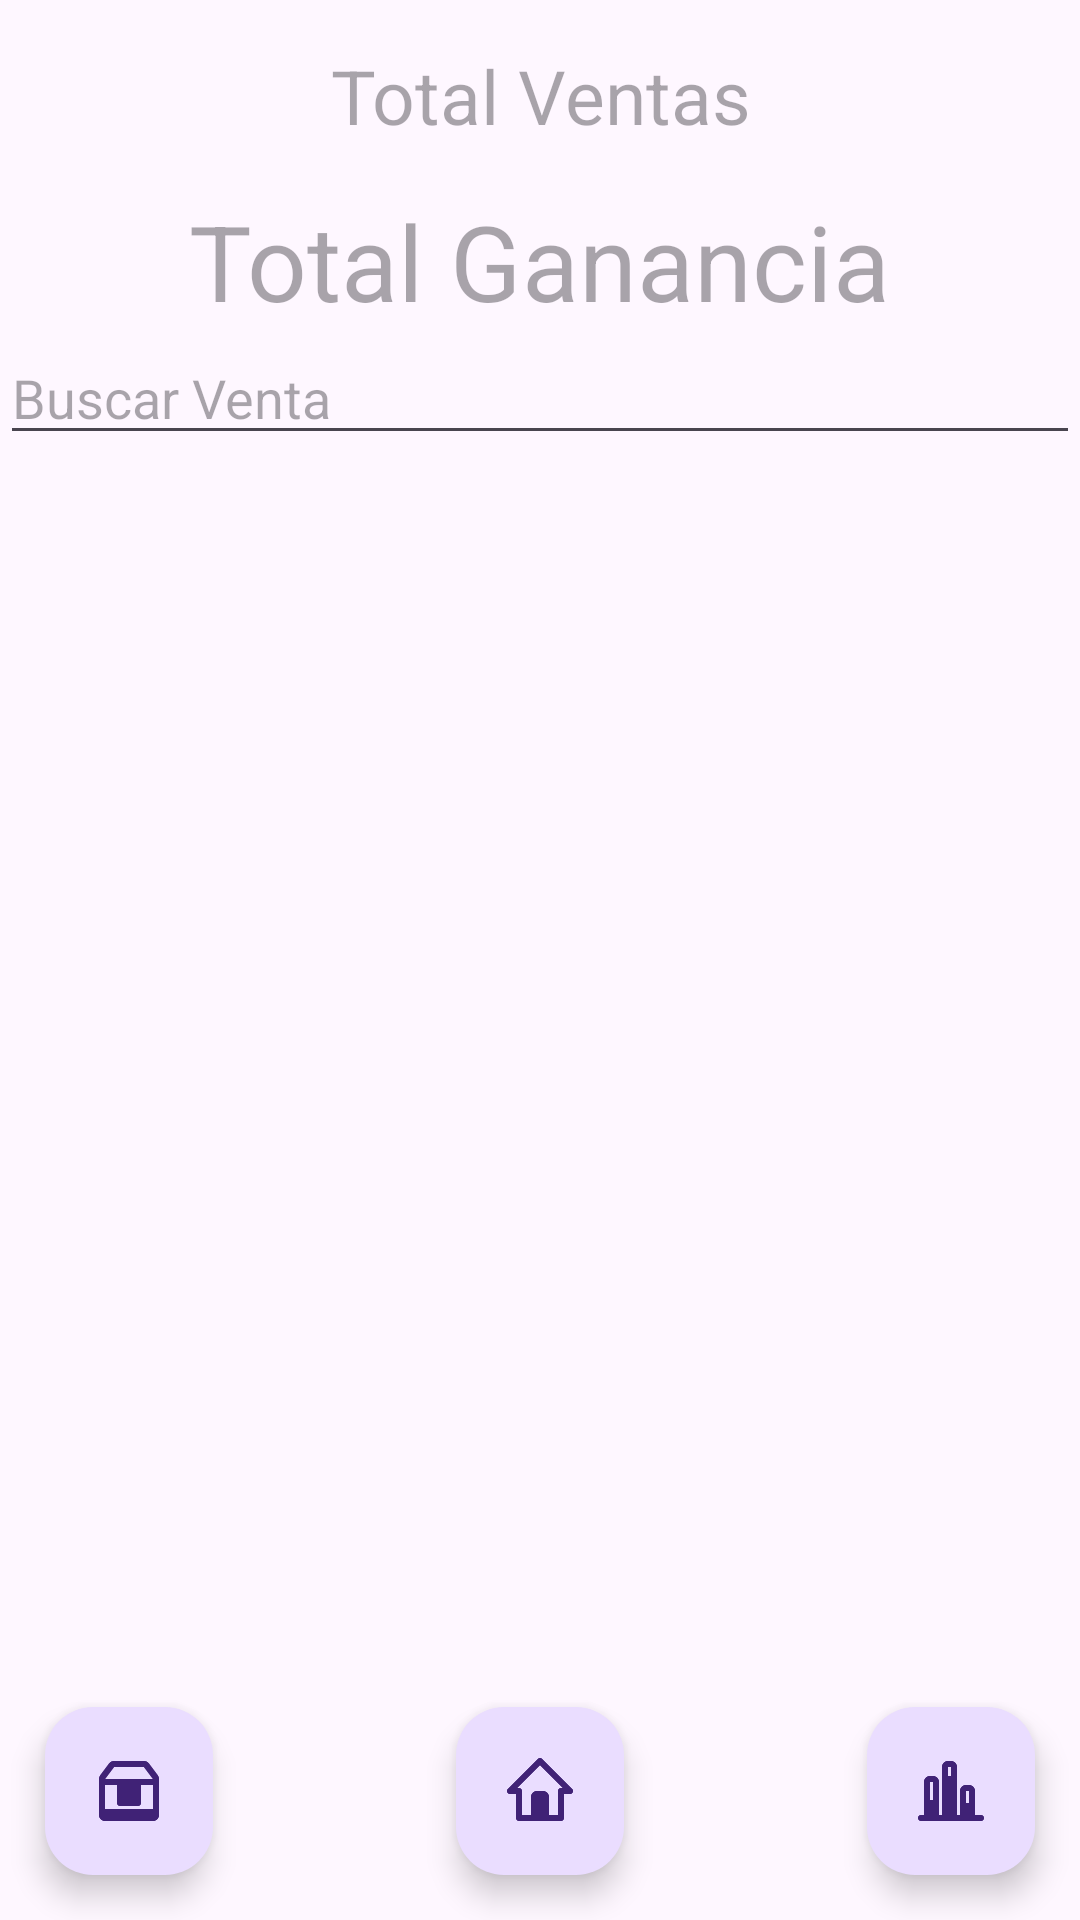

Screen size 1080×1920. Icon name, then its box in pixels as (x1, y1, x2, y2):
manage bar: (867, 1707, 1035, 1875)
manage box: (45, 1707, 213, 1875)
manage home: (456, 1707, 624, 1875)
